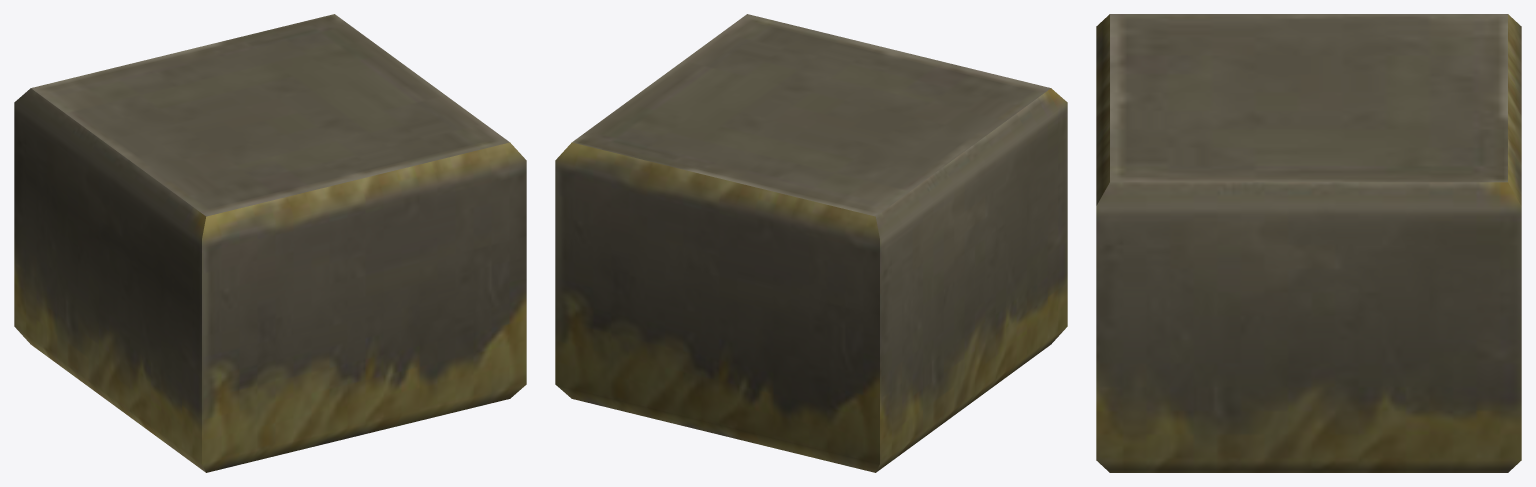
Rendered from Battle05_Brick_02.FBX.
The picture shows the model from 3 angles, left to right: view 1: azimuth 30°, elevation 25°; view 2: azimuth 150°, elevation 25°; view 3: azimuth 270°, elevation 25°; orthographic projection. The views are drawn at different scales.
Parts seen in each view (by area): view 1: Battle05_Brick_02; view 2: Battle05_Brick_02; view 3: Battle05_Brick_02.
Boxes of the visible parts, x1=… form: Battle05_Brick_02: x1=14, y1=14, x2=526, y2=472; Battle05_Brick_02: x1=555, y1=14, x2=1067, y2=472; Battle05_Brick_02: x1=1096, y1=14, x2=1521, y2=472.
Bounding box in the file's own units: 3.62 × 2.73 × 3.62.
